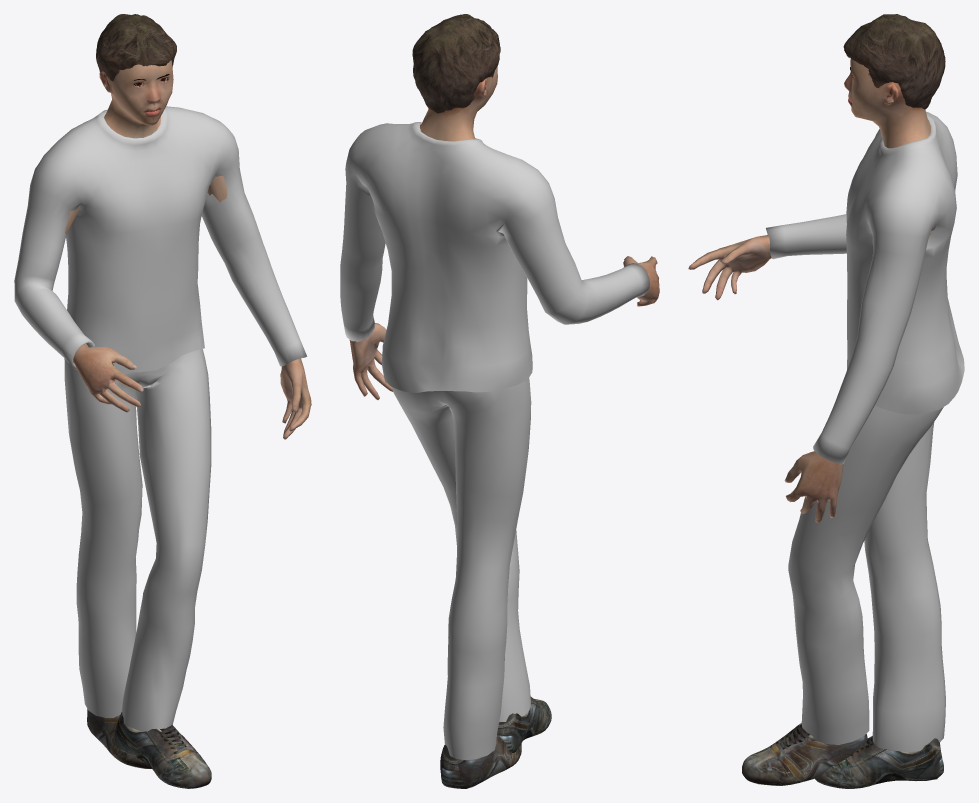
Rendered from standingv2.dae.
3 renders of one model, left to right at view 1: azimuth 30°, elevation 25°; view 2: azimuth 150°, elevation 25°; view 3: azimuth 270°, elevation 25°, orthographic. The views are drawn at different scales.
Visible parts, largest first — view 1: standing-male_casualsuit02, standing-male1591, standing-shoes02, standing-short02; view 2: standing-male_casualsuit02, standing-short02, standing-male1591, standing-shoes02; view 3: standing-male_casualsuit02, standing-male1591, standing-shoes02, standing-short02.
Boxes of the visible parts, <box> form: standing-male_casualsuit02: <box>14,106,306,731</box>; standing-male1591: <box>65,60,311,439</box>; standing-shoes02: <box>87,709,211,788</box>; standing-short02: <box>96,14,176,81</box>; standing-male_casualsuit02: <box>340,122,649,760</box>; standing-short02: <box>412,14,500,113</box>; standing-male1591: <box>349,66,659,399</box>; standing-shoes02: <box>440,696,551,788</box>; standing-male_casualsuit02: <box>766,111,964,751</box>; standing-male1591: <box>688,58,931,522</box>; standing-shoes02: <box>742,723,943,788</box>; standing-short02: <box>843,14,945,109</box>.
Size of the model in its own units: 0.8596 by 0.7353 by 2.25.
